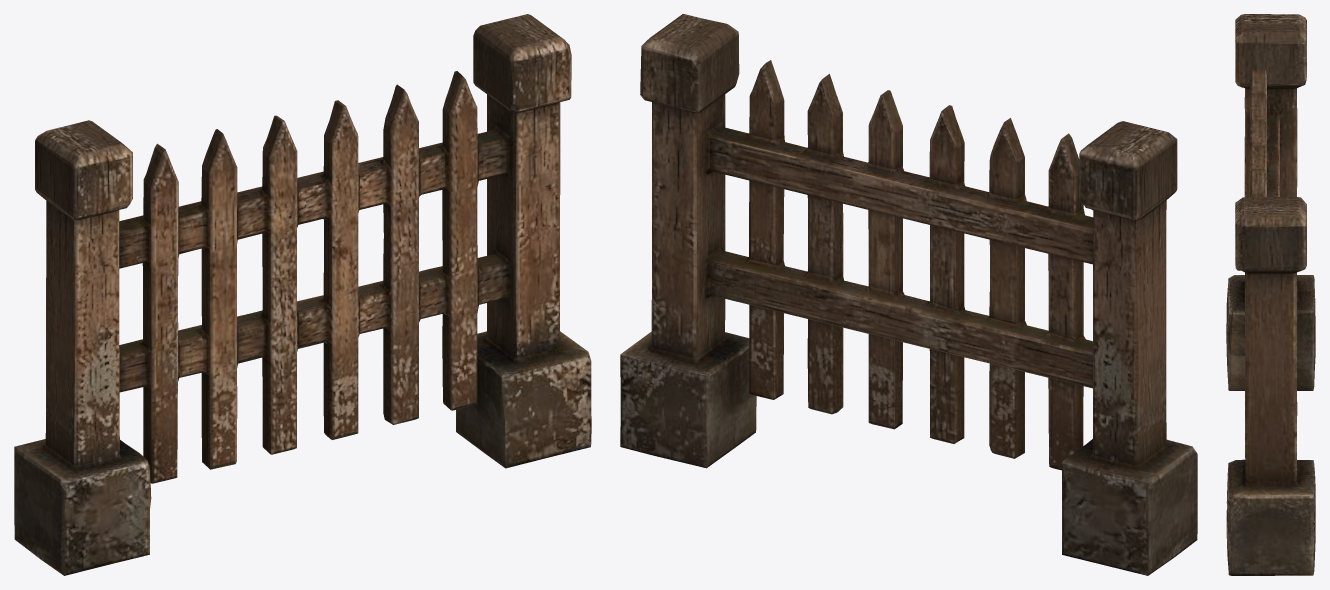
File: fence_picket_tall_lod0.glb
3 views of the same model, side by side, from view 1: azimuth 30°, elevation 25°; view 2: azimuth 150°, elevation 25°; view 3: azimuth 270°, elevation 25° (orthographic). The views are drawn at different scales.
Visible parts, largest first — view 1: fence_picket_tall_lod0; view 2: fence_picket_tall_lod0; view 3: fence_picket_tall_lod0.
Part boxes in pixels (x1,y1,x2,y2): fence_picket_tall_lod0: [14, 14, 591, 575]; fence_picket_tall_lod0: [620, 14, 1197, 575]; fence_picket_tall_lod0: [1226, 14, 1315, 575].
Bounding box in the file's own units: 2 × 1.48 × 0.3398.
1 material, 1 textured.
